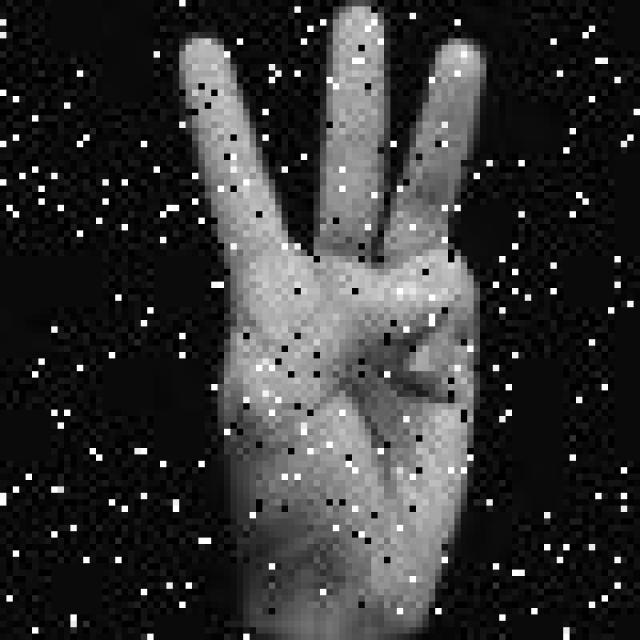W: (154, 0, 499, 640)
